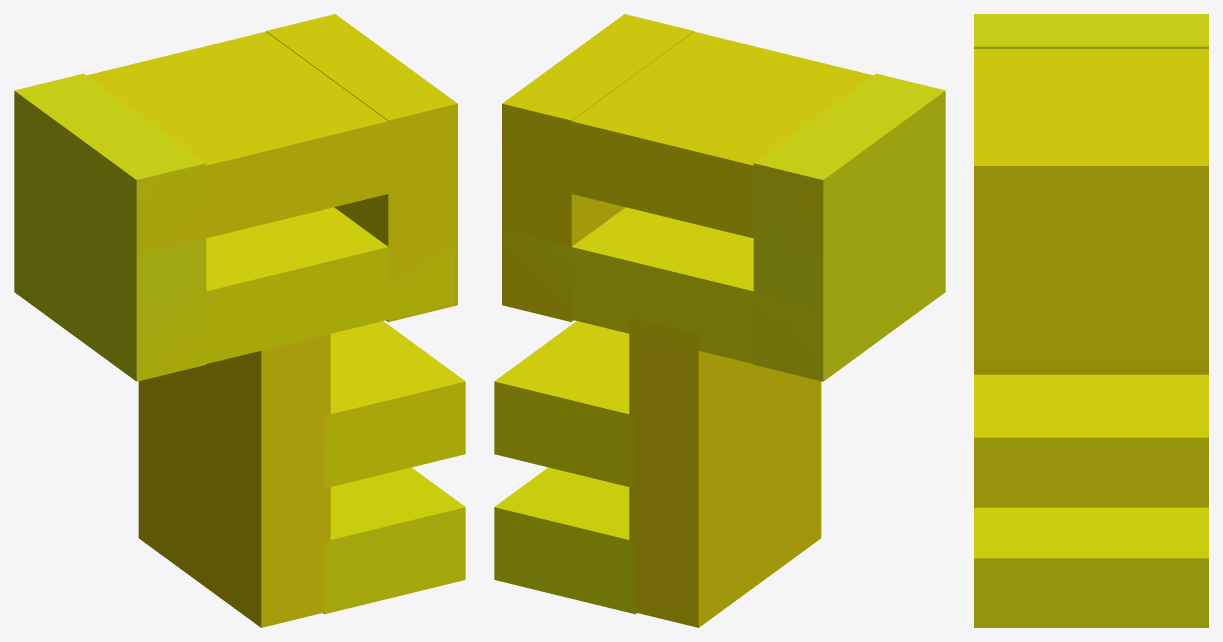
The model's file is key.fbx.
3 renders of one model, left to right at view 1: azimuth 30°, elevation 25°; view 2: azimuth 150°, elevation 25°; view 3: azimuth 270°, elevation 25°, orthographic. The views are drawn at different scales.
Visible parts, largest first — view 1: Cube.005, Cube, Cube.002, Cube.001, Cube.003, Cube.006, Cube.004; view 2: Cube.005, Cube.002, Cube, Cube.001, Cube.003, Cube.006, Cube.004; view 3: Cube.003, Cube.006, Cube.004, Cube, Cube.002, Cube.005.
Part boxes in pixels (x1,y1,x2,y2): Cube.005: [138, 334, 330, 627]; Cube: [86, 31, 453, 254]; Cube.002: [14, 73, 206, 381]; Cube.001: [138, 207, 453, 380]; Cube.003: [266, 14, 457, 321]; Cube.006: [324, 321, 465, 488]; Cube.004: [323, 467, 465, 614]; Cube.005: [629, 318, 821, 627]; Cube.002: [753, 73, 945, 381]; Cube: [506, 31, 873, 254]; Cube.001: [506, 207, 821, 380]; Cube.003: [502, 14, 693, 321]; Cube.006: [494, 321, 635, 488]; Cube.004: [494, 467, 636, 614]; Cube.003: [974, 133, 1208, 359]; Cube.006: [974, 374, 1208, 507]; Cube.004: [974, 507, 1208, 627]; Cube: [974, 49, 1208, 133]; Cube.002: [974, 14, 1208, 48]; Cube.005: [974, 359, 1208, 374].
Size of the model in its own units: 1.55 by 2.16 by 1.
